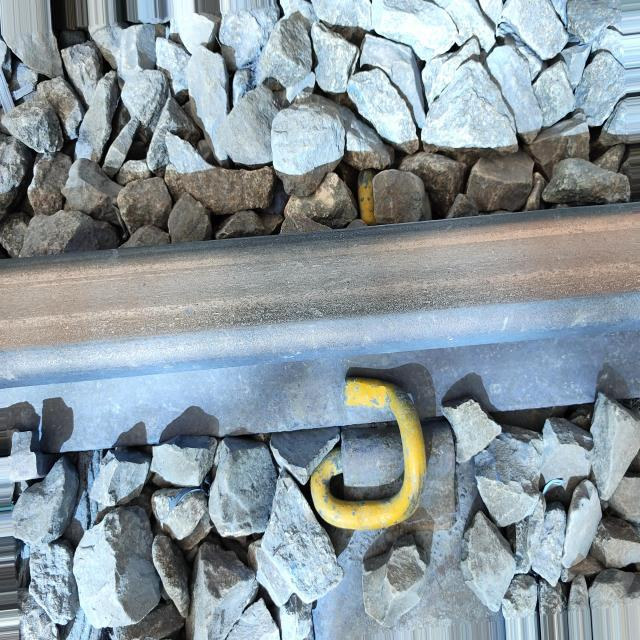Good Fasteners: (303, 369, 468, 549)
